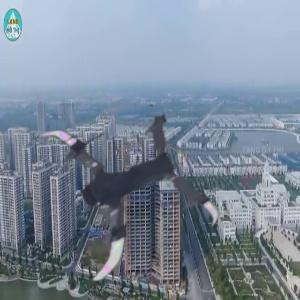drone: (24, 99, 206, 281)
